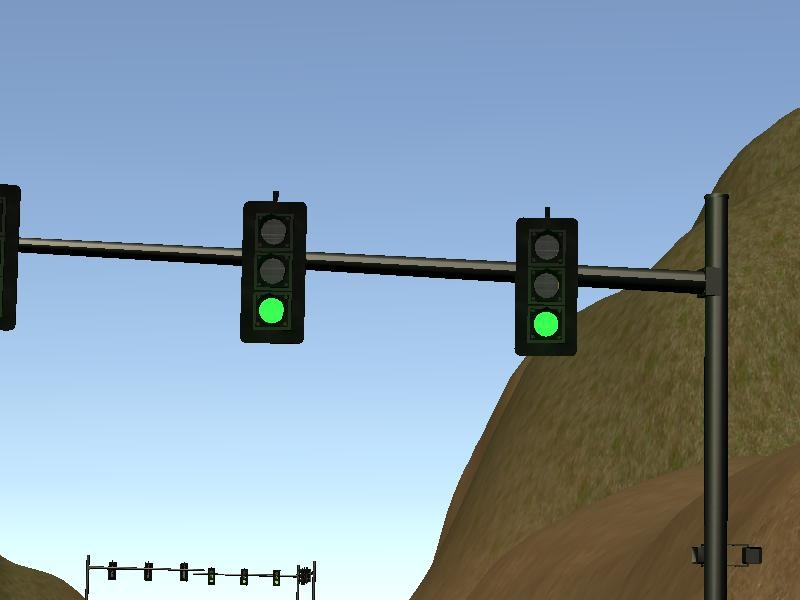GREEN: (240, 201, 304, 344), (516, 219, 577, 356)
